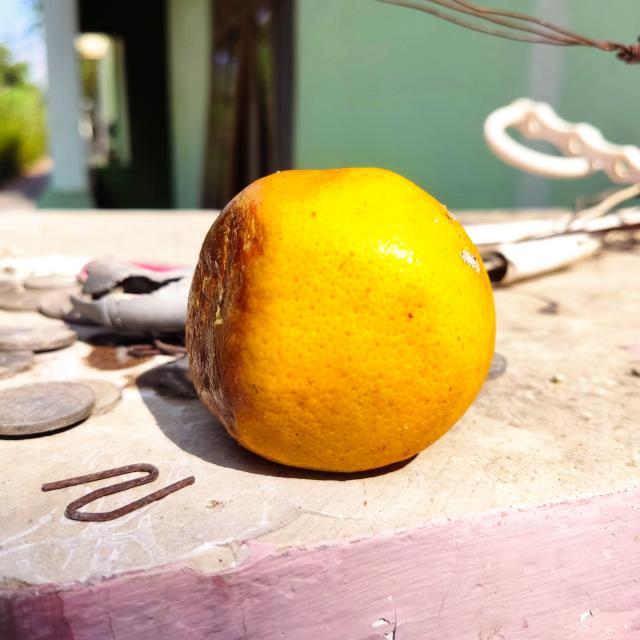orange: (187, 162, 497, 470)
